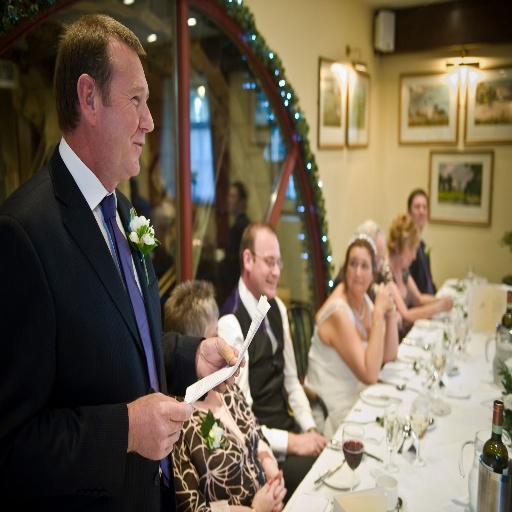hand: (114, 387, 195, 468), (194, 334, 246, 396), (291, 428, 328, 460), (249, 479, 285, 511), (370, 279, 393, 315), (274, 468, 285, 509), (442, 294, 454, 311)
